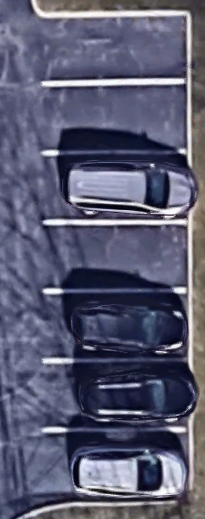Occupied: (42, 152, 190, 223), (44, 431, 191, 502), (43, 291, 189, 361), (43, 360, 190, 429)
Vacant: (41, 82, 190, 153), (43, 222, 188, 290), (43, 16, 188, 80)
